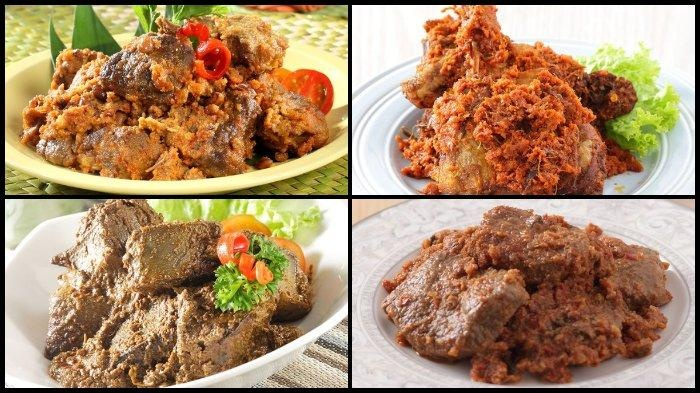rendang: (379, 206, 676, 384), (43, 200, 314, 388), (21, 15, 329, 179)
